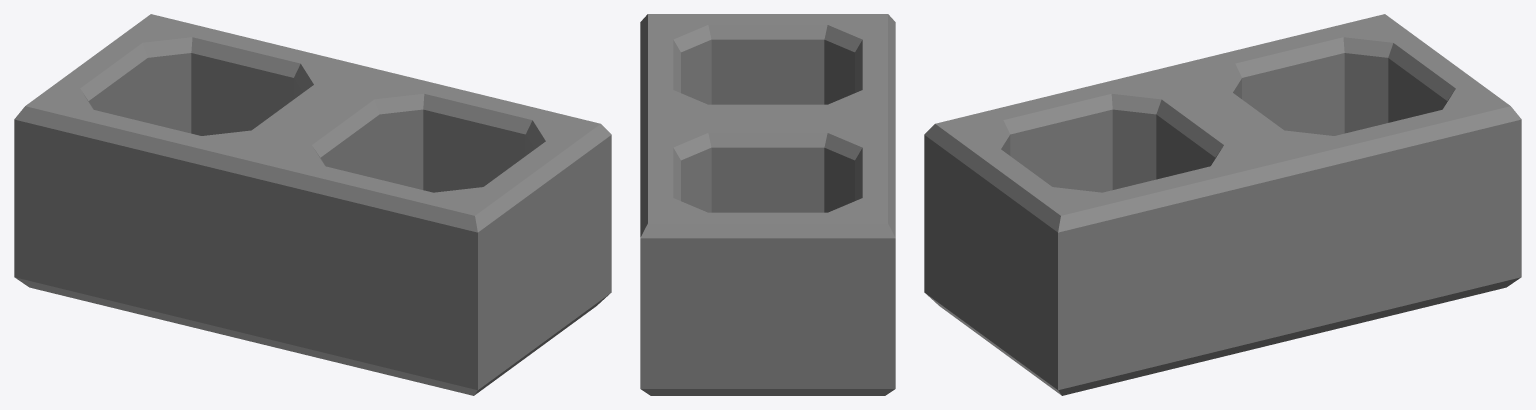
Rendered from brick_a007.glb.
The picture shows the model from 3 angles, left to right: view 1: azimuth 30°, elevation 25°; view 2: azimuth 150°, elevation 25°; view 3: azimuth 270°, elevation 25°; orthographic projection. The views are drawn at different scales.
Visible parts, largest first — view 1: brick_a007; view 2: brick_a007; view 3: brick_a007.
Boxes of the visible parts, <box> form: brick_a007: <box>14,14,611,395</box>; brick_a007: <box>640,14,895,395</box>; brick_a007: <box>924,14,1521,395</box>.
Size of the model in its own units: 0.3732 by 0.1499 by 0.4464.
1 material, 1 textured.
